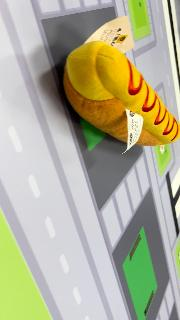hotdog: (63, 40, 179, 148)
